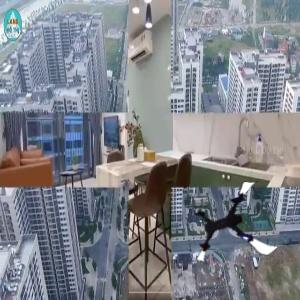drone: (191, 178, 279, 266)
